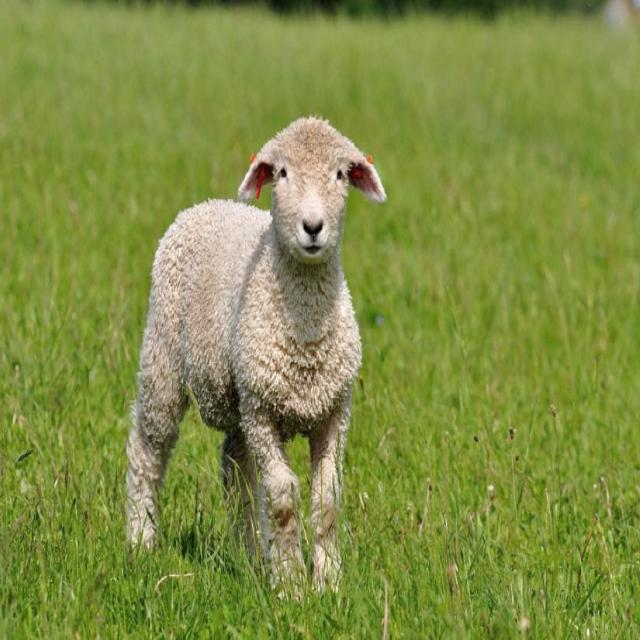sheep: (128, 116, 386, 588)
